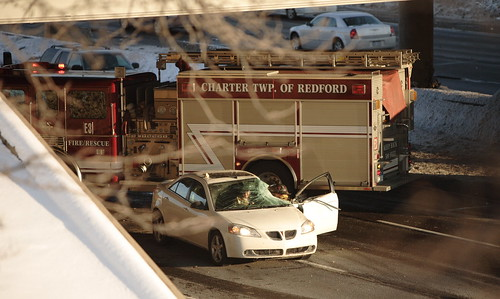car: (130, 162, 339, 265), (289, 11, 396, 53)
firetruck: (18, 53, 402, 197)
